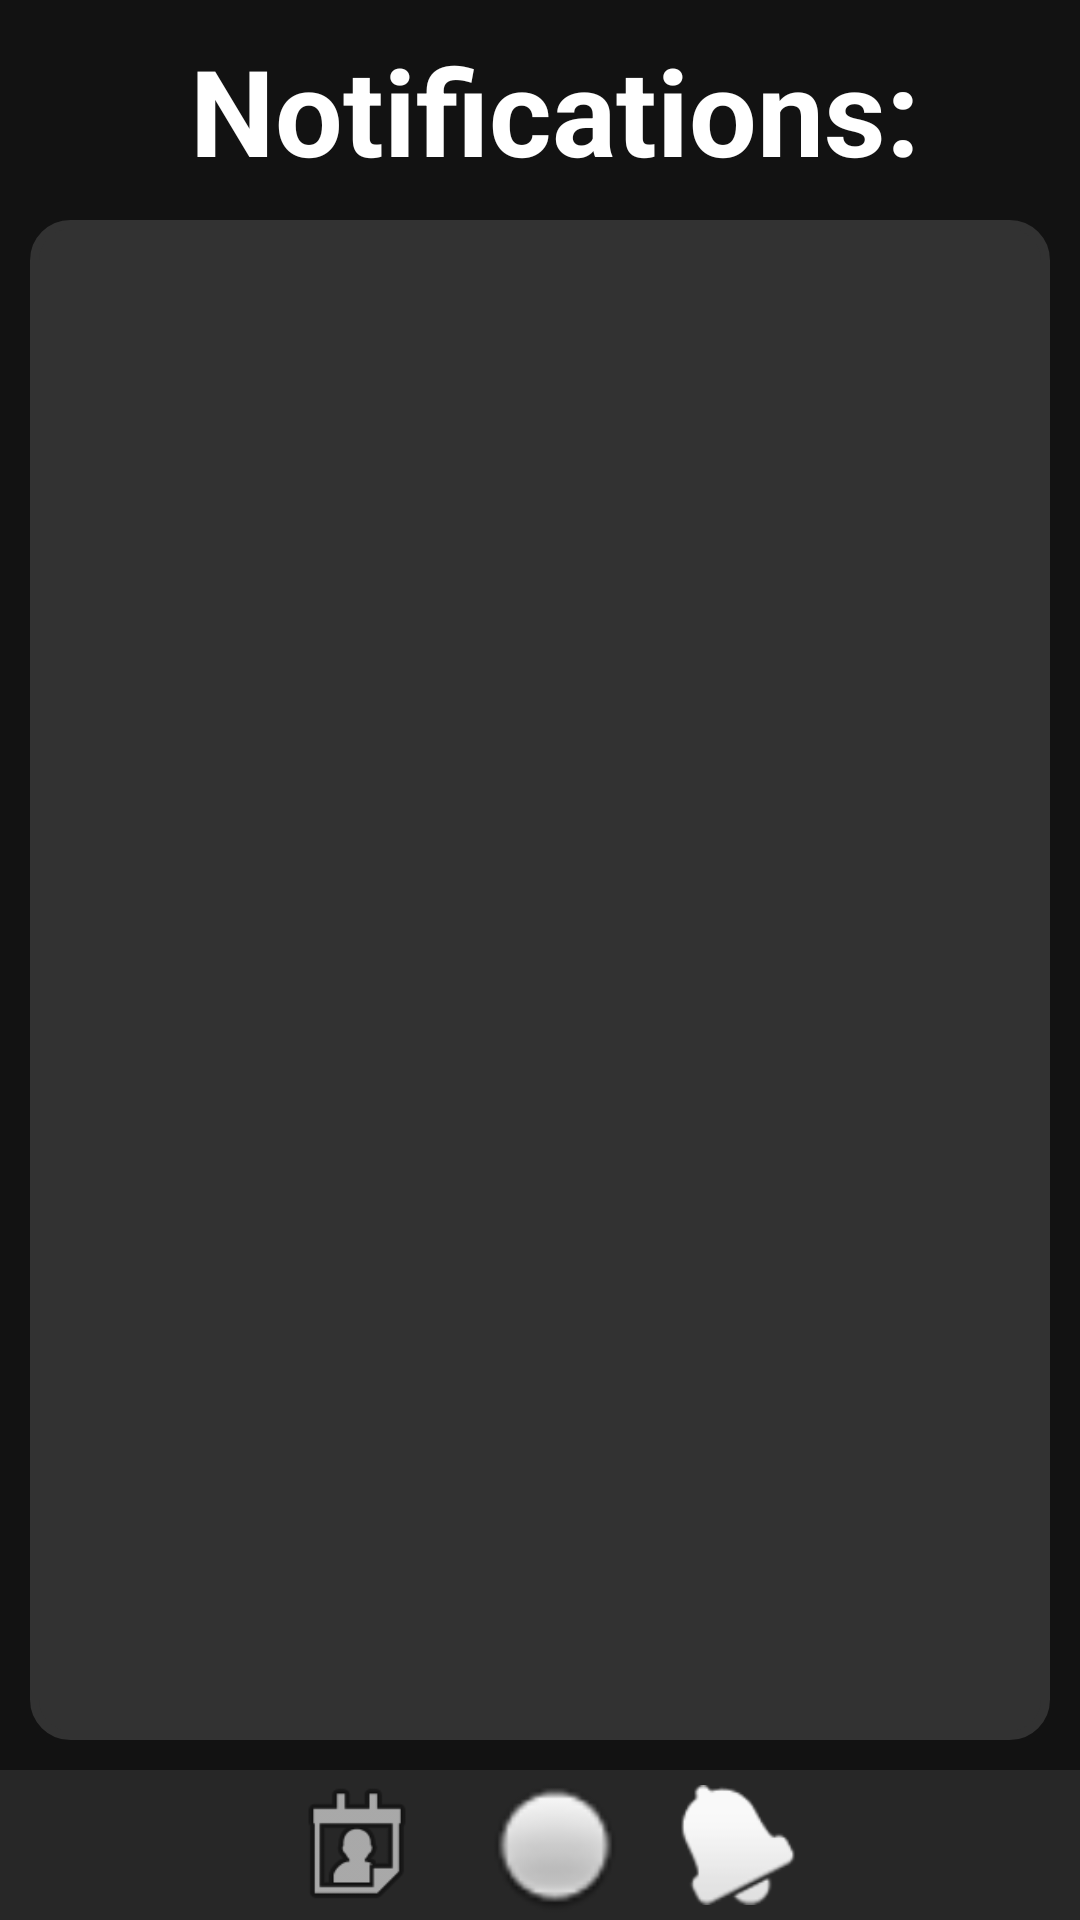

Icons on this 1080*1920 Android screen, each with its box as (x1, y1, x2, y2):
calendar: (313, 1793, 401, 1894)
popup reminder: (681, 1785, 795, 1905)
